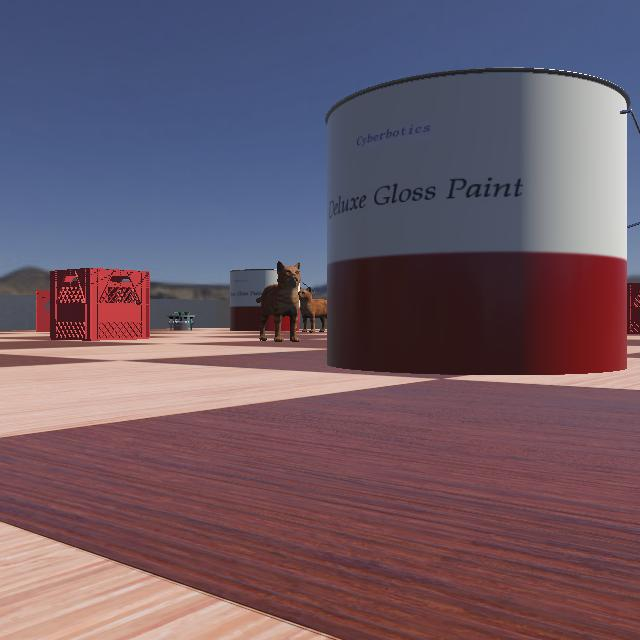cat: (242, 258, 306, 342), (242, 258, 306, 342), (242, 258, 306, 342), (242, 258, 306, 342), (296, 286, 346, 332), (296, 286, 346, 332), (296, 286, 346, 332), (296, 286, 346, 332), (296, 286, 346, 332)
paint-bucket: (322, 66, 640, 378), (322, 66, 640, 378), (322, 66, 640, 378)
plastic-crate: (34, 268, 158, 340), (612, 280, 640, 334), (612, 280, 640, 334)
